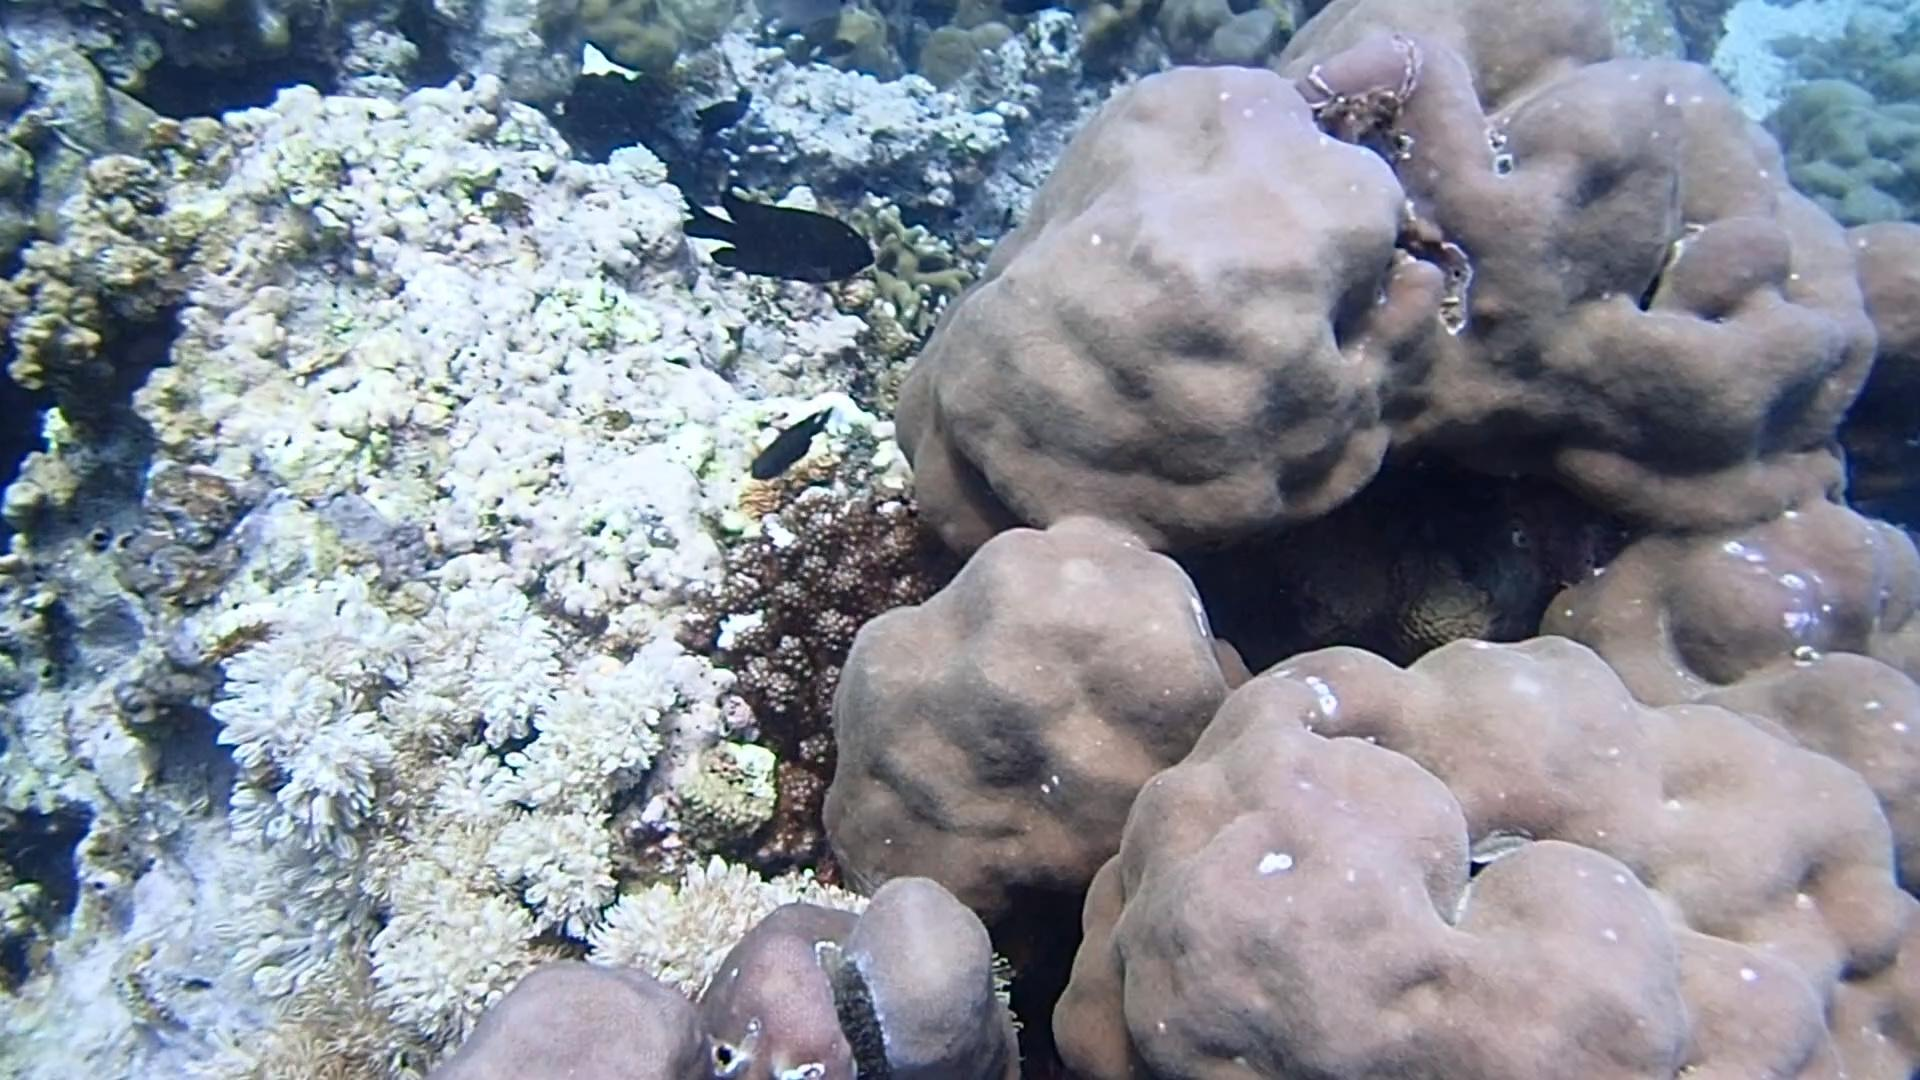Dark Fish: (674, 169, 893, 301), (746, 398, 832, 496), (684, 90, 753, 140)
